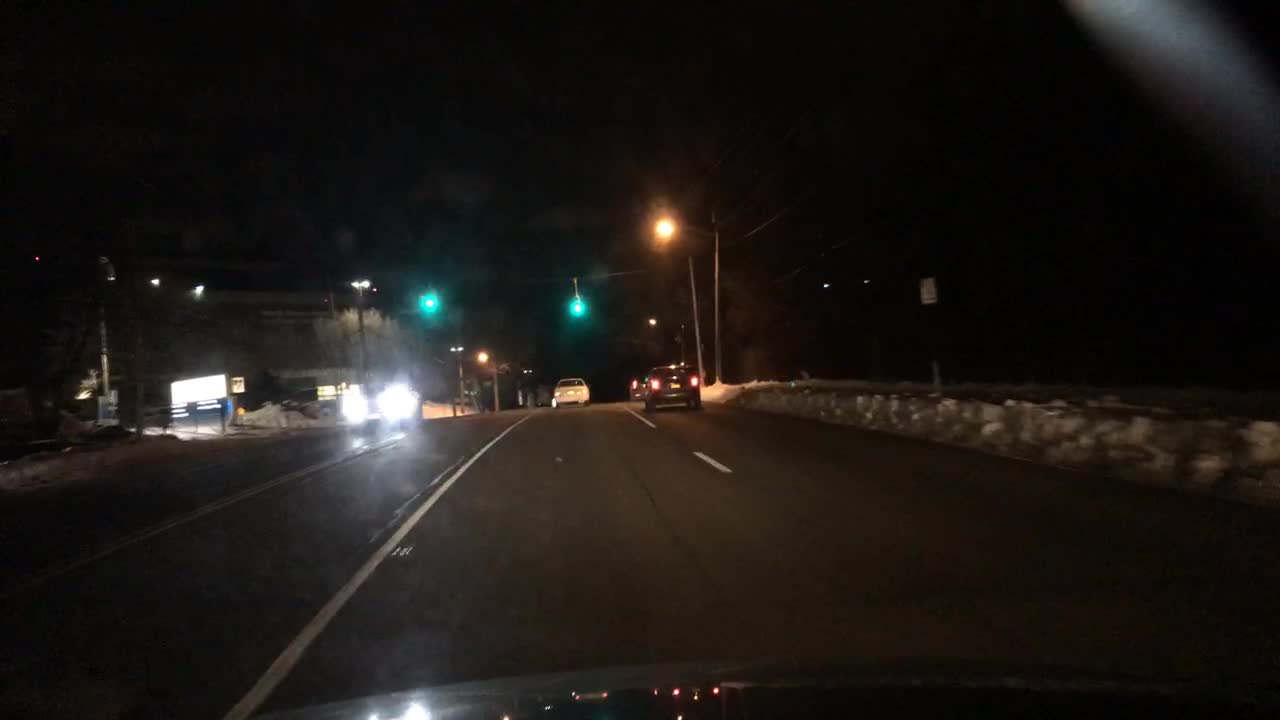car: (345, 384, 424, 421), (641, 366, 703, 409), (552, 379, 588, 406), (626, 374, 643, 401)
traffic light: (425, 288, 435, 310), (573, 294, 582, 316)
traffic sign: (919, 275, 938, 305), (230, 378, 247, 394)
